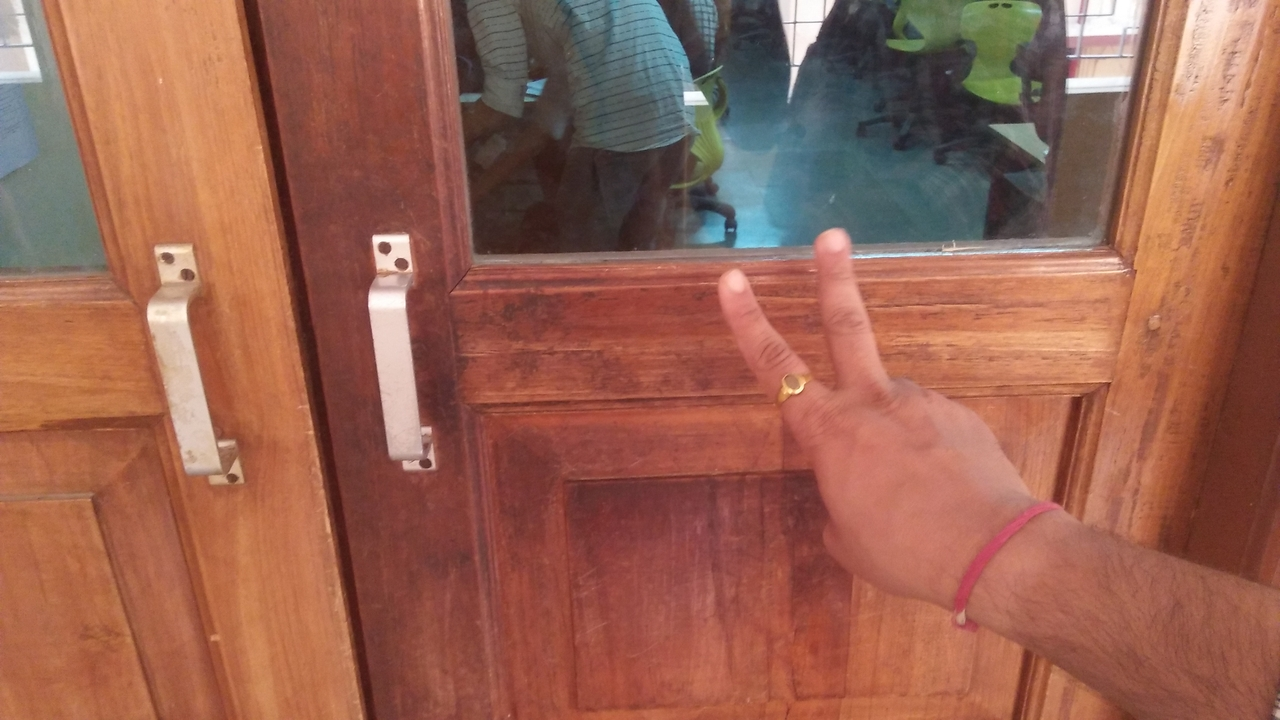fingertip: (806, 214, 862, 266), (710, 258, 764, 308)
